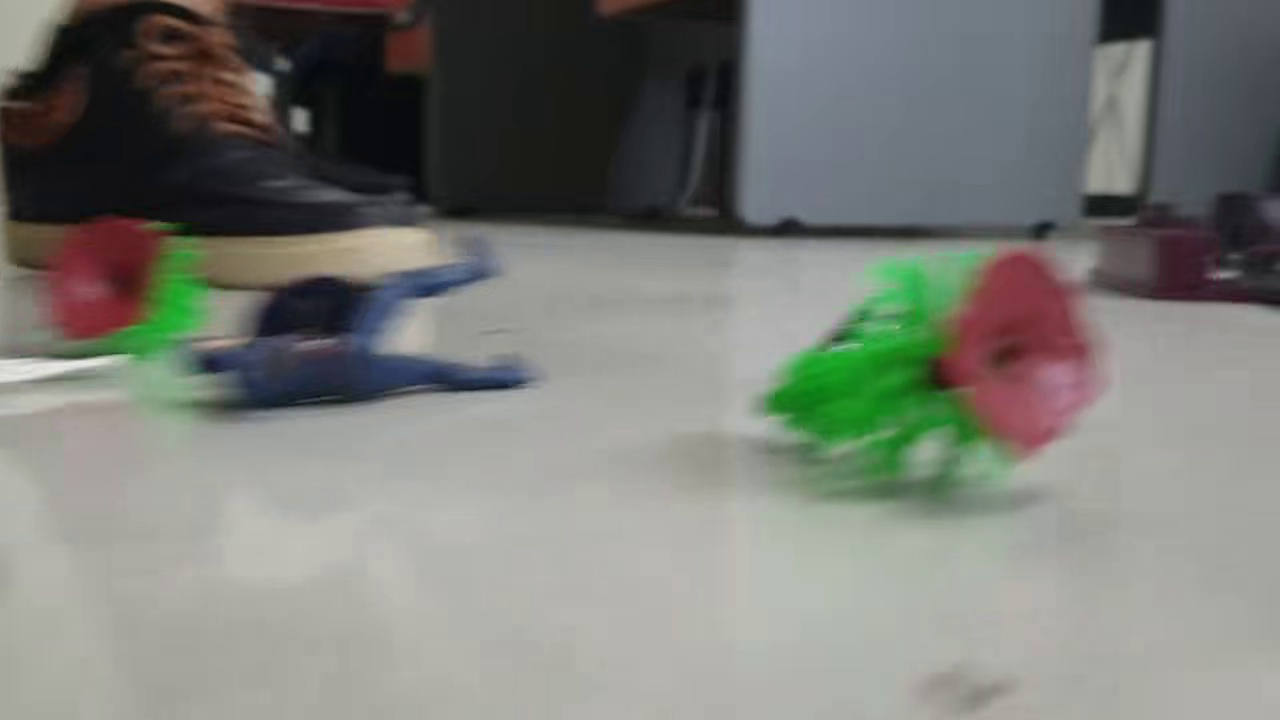people: (188, 233, 530, 420)
tree: (750, 247, 1102, 493), (39, 224, 213, 362)
